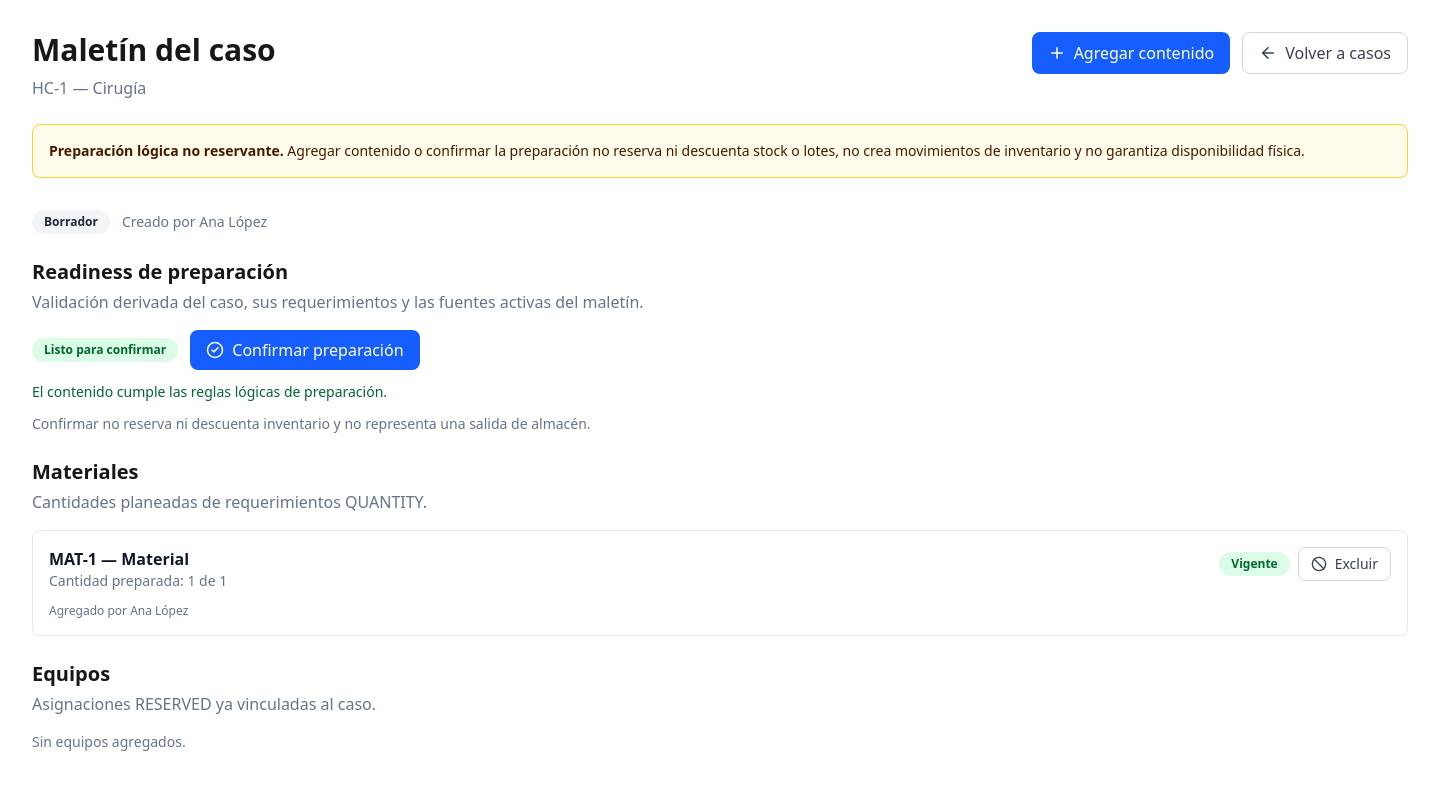
Test: HealthcareCaseKitPage › excludes an ACTIVE item with a required reason and refreshes the kit
Click the button "Excluir" at coordinates (1344, 564), box [1298, 547, 1391, 581]
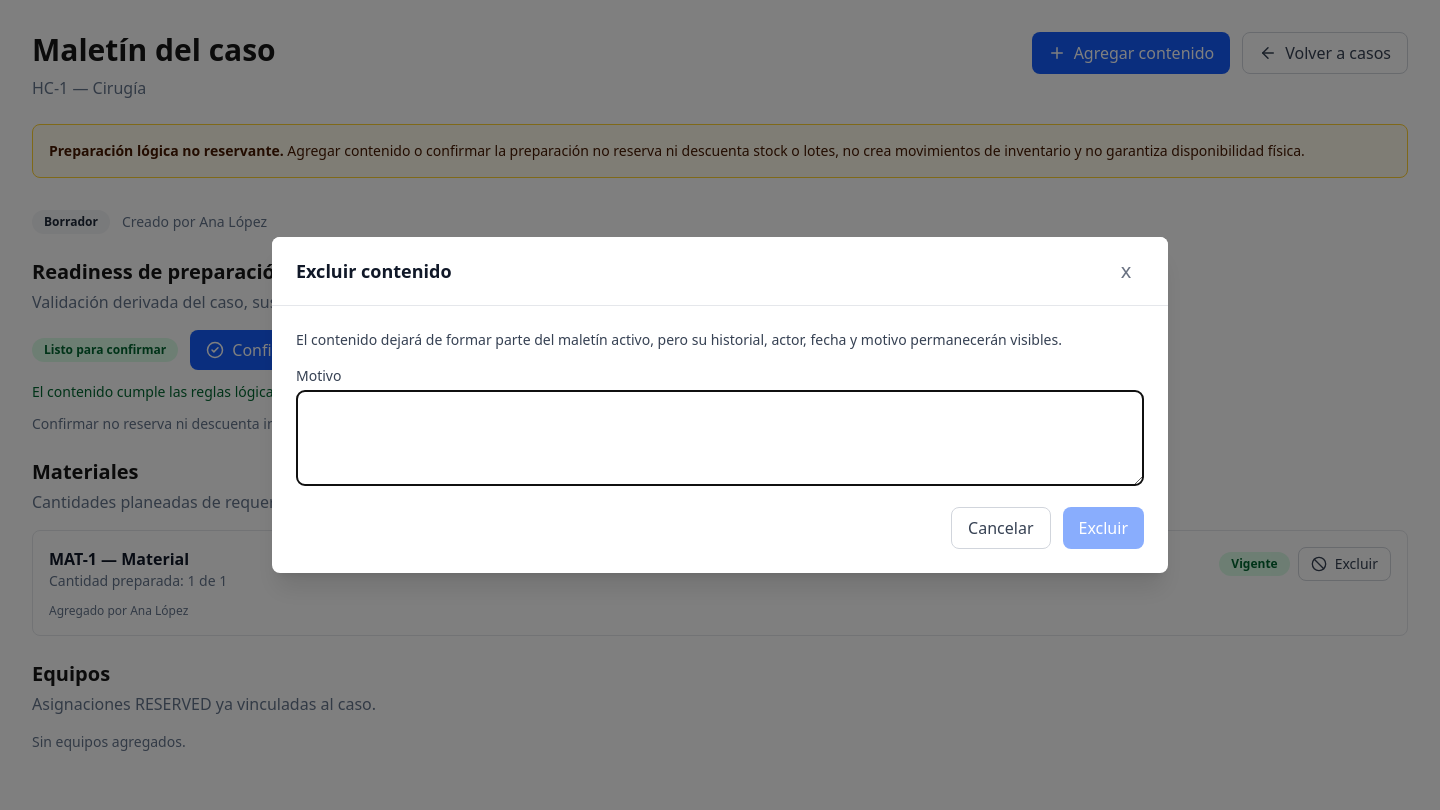
Check: the button "Excluir" is disabled, box [1062, 507, 1144, 549]
Check: the text "historial, actor, fecha y motivo" is shown, box [296, 330, 1062, 349]
Type "  No requerido  " into the text box labelled "Motivo" at coordinates (720, 438), box [296, 390, 1144, 486]
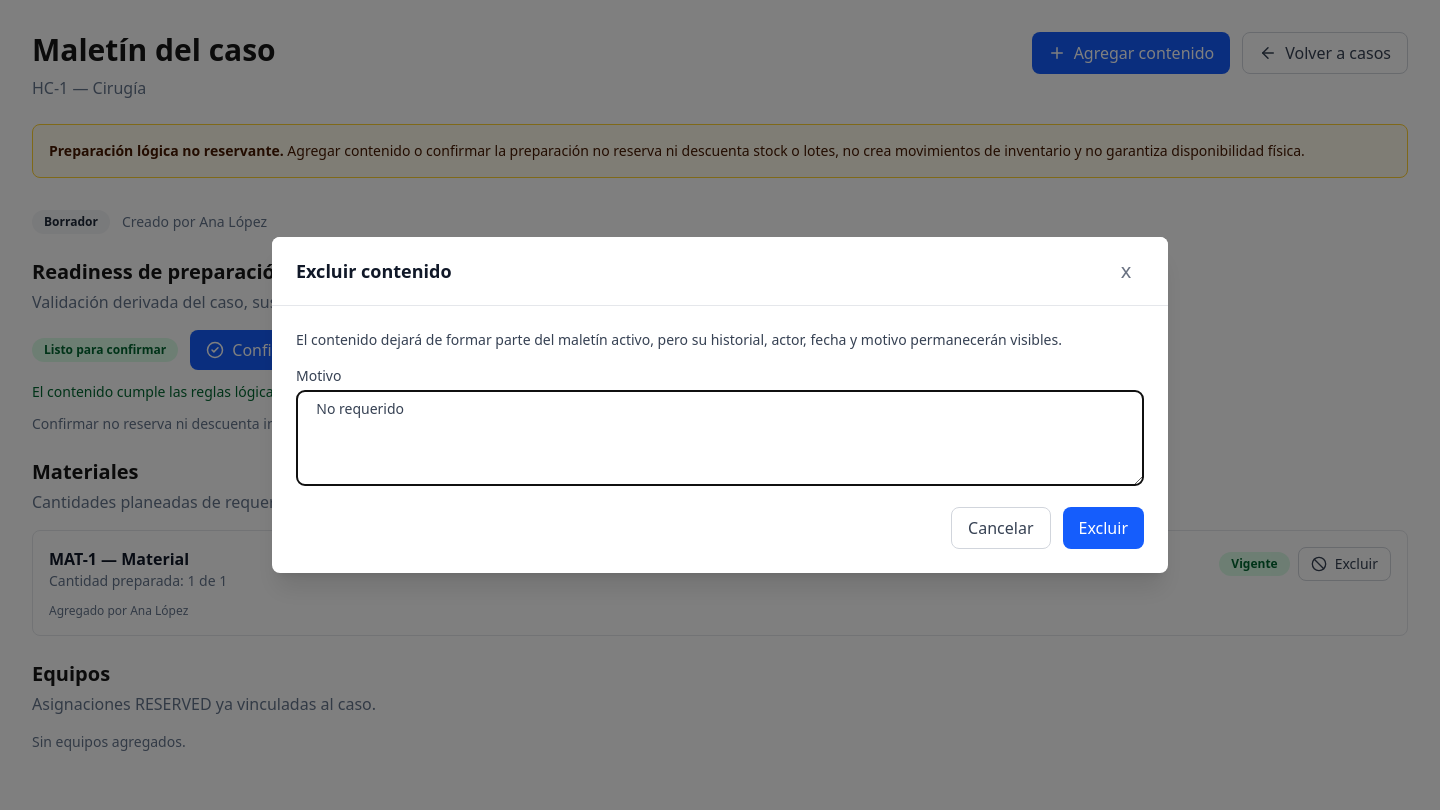
Click the button "Excluir" at coordinates (1103, 528), box [1062, 507, 1144, 549]
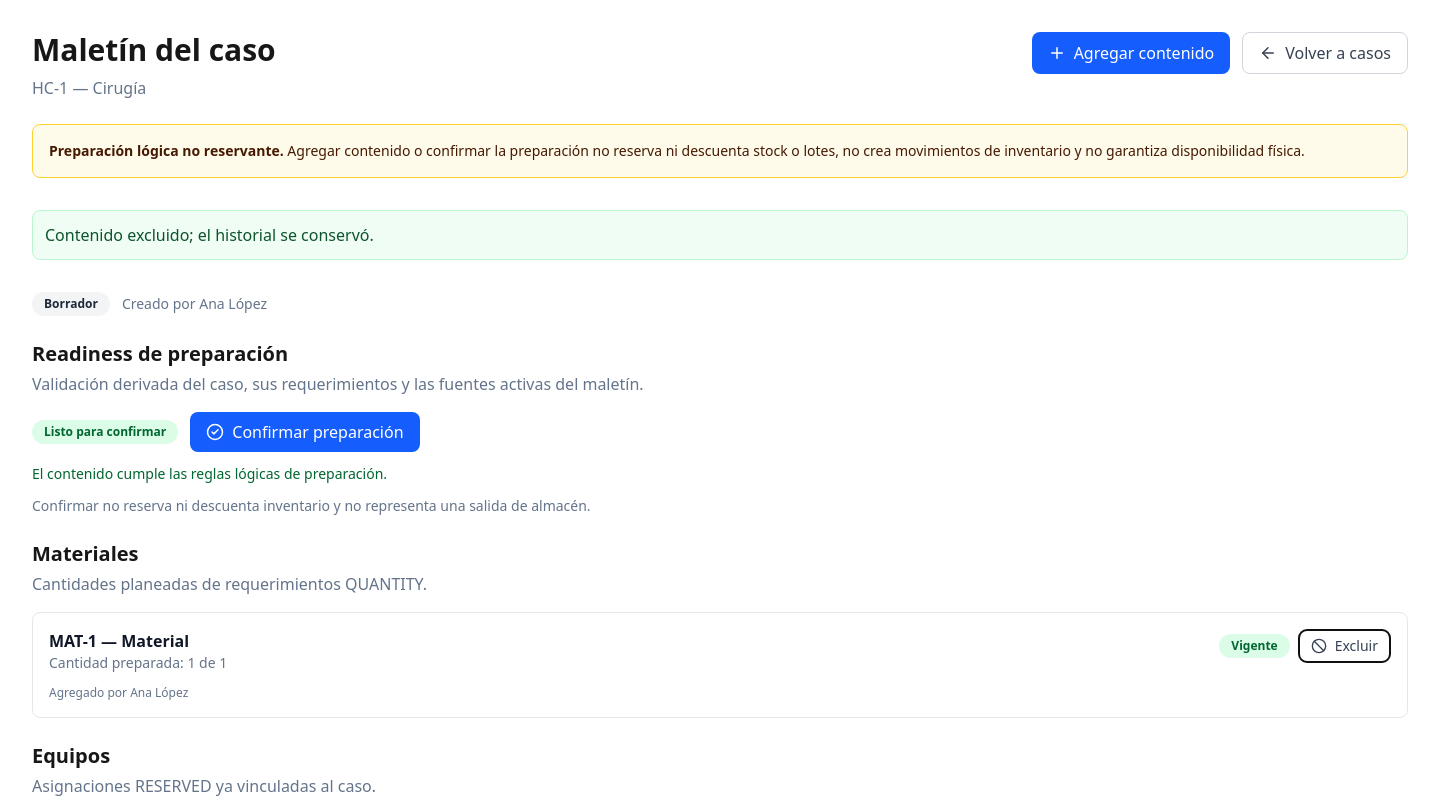
Check: the text "Contenido excluido; el historial se conservó." is shown, box [32, 210, 1408, 260]
